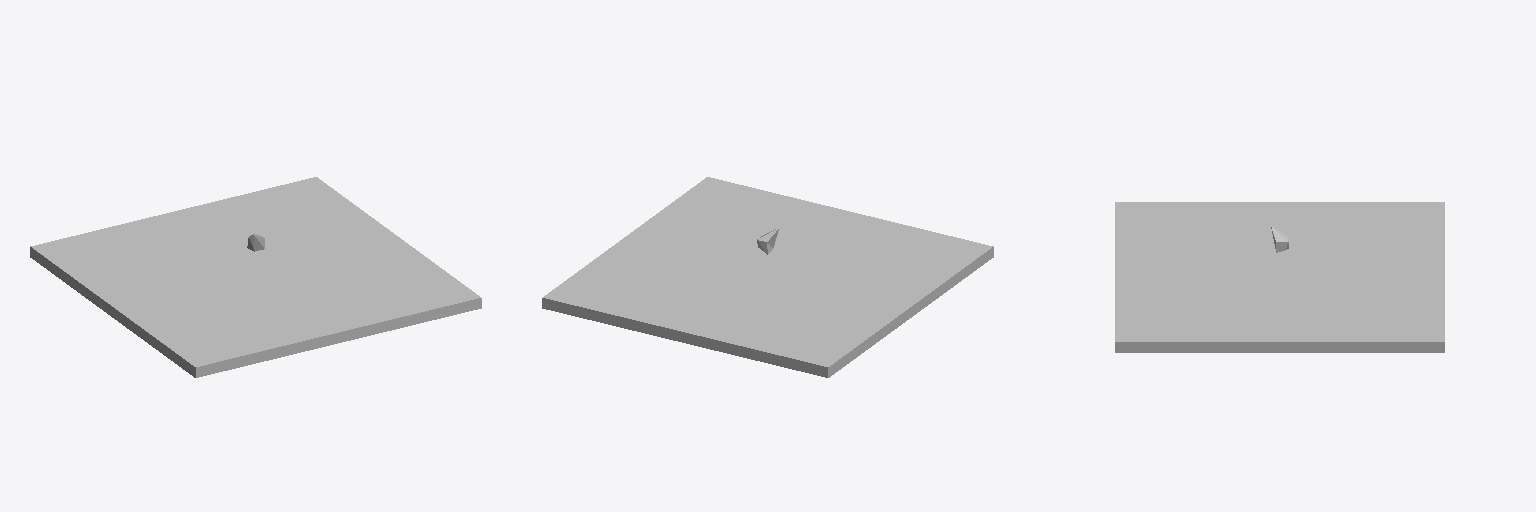
Rendered from test_off_chop.obj.
3 renders of one model, left to right at view 1: azimuth 30°, elevation 25°; view 2: azimuth 150°, elevation 25°; view 3: azimuth 270°, elevation 25°, orthographic.
Visible parts, largest first — view 1: plane_planeMesh; view 2: plane_planeMesh; view 3: plane_planeMesh.
Part boxes in pixels (x1,y1,x2,y2): plane_planeMesh: (30,177,481,377); plane_planeMesh: (542,177,993,377); plane_planeMesh: (1115,202,1444,352).
Size of the model in its own units: 55.22 by 9.94 by 55.22.